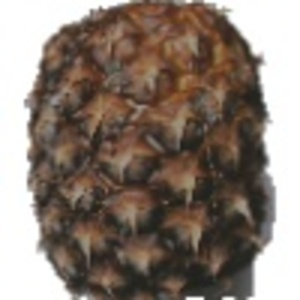abacaxi: (16, 1, 279, 300)
